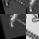pickaxe: (4, 14, 26, 38), (0, 0, 26, 14), (26, 14, 39, 39)
